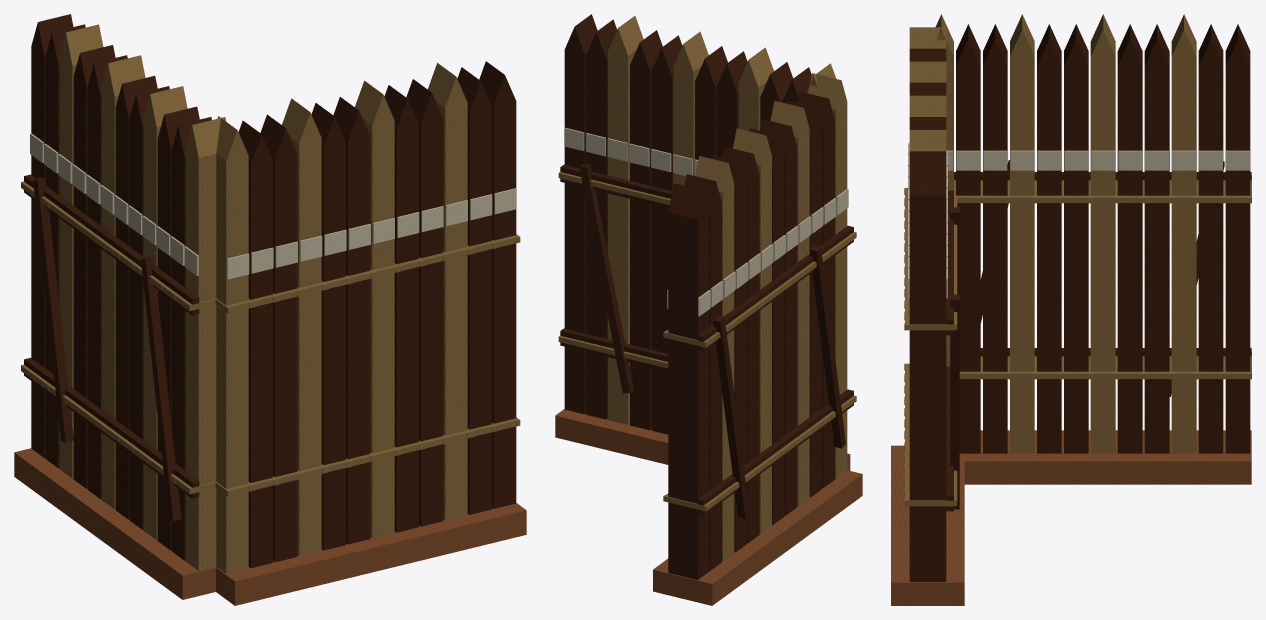
Rendered from Berber_Palisade_Age2_corner_90.fbx.
3 views of the same model, side by side, from view 1: azimuth 30°, elevation 25°; view 2: azimuth 150°, elevation 25°; view 3: azimuth 270°, elevation 25° (orthographic). The views are drawn at different scales.
Visible parts, largest first — view 1: palm_split_post.067, palm_split_post.063, palm_split_post.070, palm_split_post.065, palm_split_post.060, earth_seat.009, palm_split_post.069, palm_split_post.072, palm_split_post.066, neutral_owner_band.009, back_diagonal_brace.009, continuous_rear_tie.009 (+3 smaller); view 2: palm_split_post.070, palm_split_post.067, palm_split_post.065, palm_split_post.072, palm_split_post.063, earth_seat.009, palm_split_post.069, back_diagonal_brace.009, palm_split_post.066, continuous_rear_tie.009, neutral_owner_band.009, palm_split_post.060 (+2 smaller); view 3: palm_split_post.070, palm_split_post.067, palm_split_post.065, palm_split_post.063, earth_seat.009, palm_split_post.069, palm_split_post.072, palm_split_post.066, neutral_owner_band.009, front_lashing.009, lashing_side.009, back_diagonal_brace.009 (+3 smaller).
Boxes of the visible parts, x1,y1,x2,y2 form: palm_split_post.067: [73, 45, 443, 550]; palm_split_post.063: [115, 75, 370, 568]; palm_split_post.070: [31, 14, 516, 532]; palm_split_post.065: [45, 24, 491, 562]; palm_split_post.060: [186, 116, 248, 574]; earth_seat.009: [14, 448, 526, 605]; palm_split_post.069: [101, 55, 394, 538]; palm_split_post.072: [59, 24, 467, 520]; palm_split_post.066: [143, 86, 321, 556]; neutral_owner_band.009: [30, 133, 516, 279]; back_diagonal_brace.009: [33, 177, 181, 521]; continuous_rear_tie.009: [24, 174, 199, 498]; palm_split_post.070: [564, 14, 759, 579]; palm_split_post.067: [630, 30, 797, 552]; palm_split_post.065: [586, 19, 822, 570]; palm_split_post.072: [608, 16, 734, 561]; palm_split_post.063: [695, 46, 834, 524]; earth_seat.009: [555, 409, 862, 605]; palm_split_post.069: [673, 31, 771, 533]; back_diagonal_brace.009: [579, 164, 845, 518]; palm_split_post.066: [738, 47, 809, 506]; continuous_rear_tie.009: [560, 164, 853, 515]; neutral_owner_band.009: [564, 127, 848, 316]; palm_split_post.060: [806, 63, 847, 478]; palm_split_post.070: [909, 24, 1250, 581]; palm_split_post.067: [909, 24, 1169, 453]; palm_split_post.065: [909, 24, 1223, 453]; palm_split_post.063: [909, 24, 1088, 453]; earth_seat.009: [891, 430, 1251, 605]; palm_split_post.069: [909, 14, 1115, 453]; palm_split_post.072: [909, 14, 1196, 453]; palm_split_post.066: [909, 14, 1034, 453]; neutral_owner_band.009: [908, 143, 1249, 298]; front_lashing.009: [905, 188, 1250, 499]; lashing_side.009: [904, 176, 1251, 506]; back_diagonal_brace.009: [950, 160, 1224, 509].
Size of the model in its own units: 334 by 458 by 334.
Materials: 4 (4 with a texture image).
